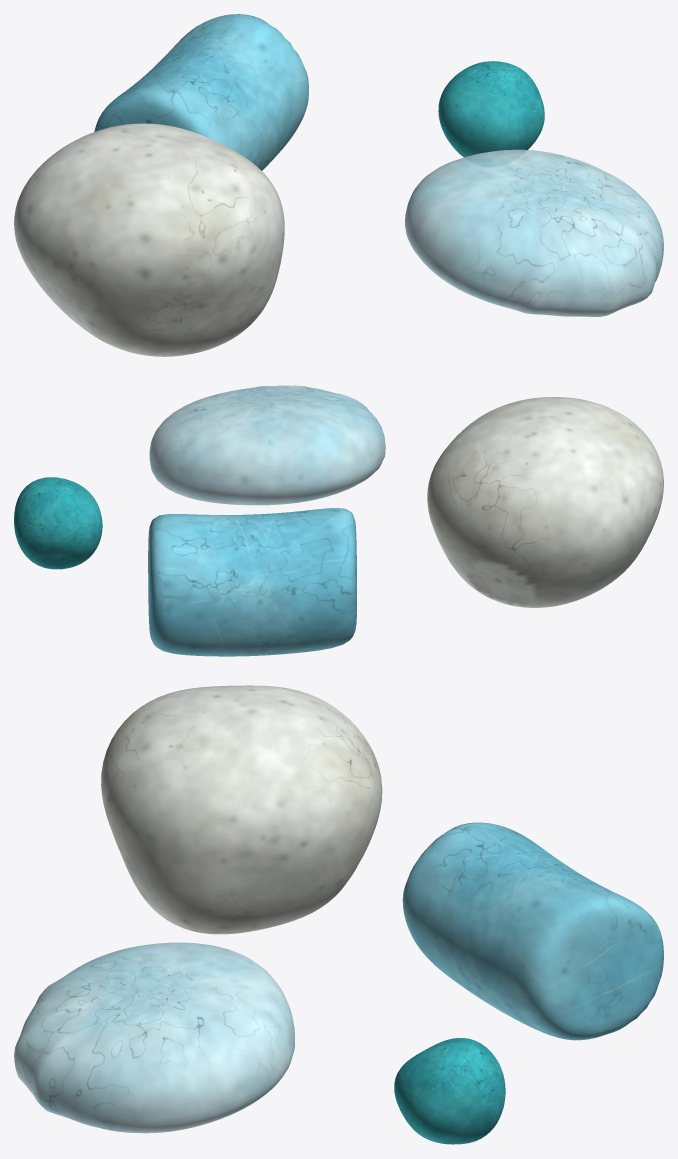
The model's file is pelet.glb.
3 views of the same model, one above another, from view 1: azimuth 30°, elevation 25°; view 2: azimuth 150°, elevation 25°; view 3: azimuth 270°, elevation 25° (orthographic). The views are drawn at different scales.
Visible parts, largest first — view 1: pelet; view 2: pelet; view 3: pelet.
Boxes of the visible parts, <box> form: pelet: <box>14,14,663,356</box>; pelet: <box>14,385,663,656</box>; pelet: <box>14,685,663,1144</box>.
Size of the model in its own units: 0.2236 by 0.0714 by 0.199.
Materials: 4 (4 with a texture image).
